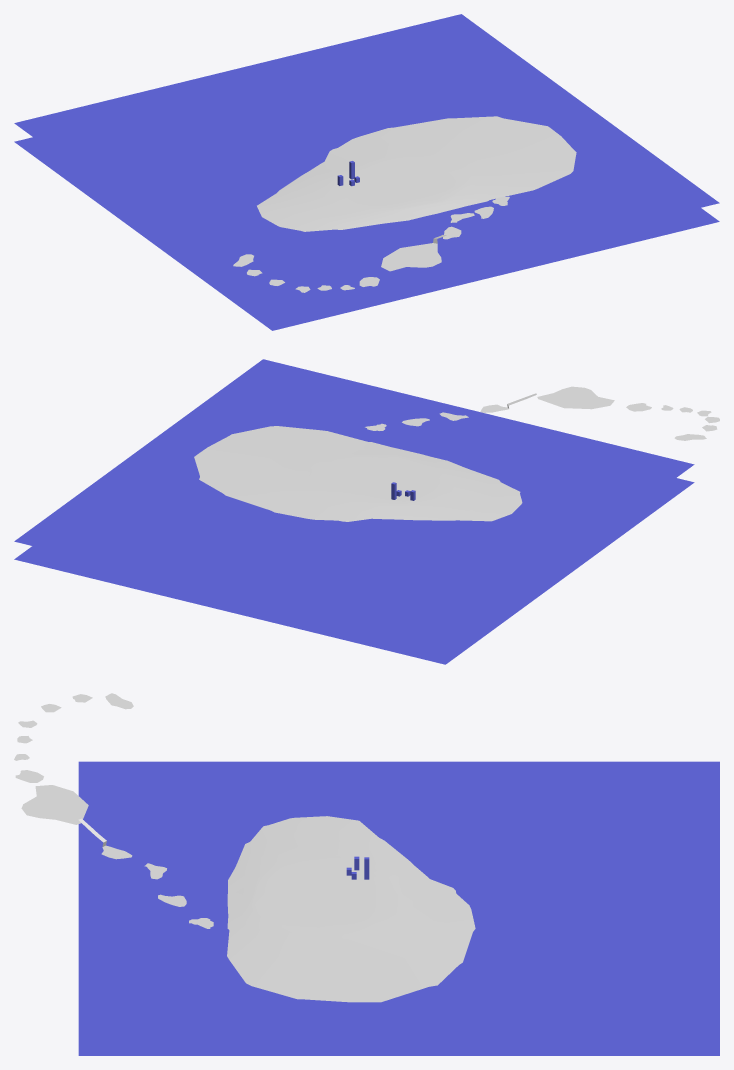
File: octree_lo.glb
The picture shows the model from 3 angles, top to bottom: view 1: azimuth 30°, elevation 25°; view 2: azimuth 150°, elevation 25°; view 3: azimuth 270°, elevation 25°; orthographic projection. The views are drawn at different scales.
Parts seen in each view (by area): view 1: Ocean, Beach, BufferPlane, Plane.004; view 2: Ocean, Beach, BufferPlane, Plane.004; view 3: Ocean, Beach, BufferPlane, Plane.004.
Boxes of the visible parts, bbox=[...] form: Ocean: bbox=[14, 14, 719, 312]; Beach: bbox=[257, 116, 576, 231]; BufferPlane: bbox=[14, 137, 719, 330]; Plane.004: bbox=[381, 226, 461, 271]; Ocean: bbox=[14, 359, 694, 646]; Beach: bbox=[194, 426, 522, 521]; BufferPlane: bbox=[14, 478, 694, 664]; Plane.004: bbox=[480, 386, 614, 412]; Ocean: bbox=[78, 761, 719, 1032]; Beach: bbox=[227, 816, 475, 1002]; BufferPlane: bbox=[78, 1032, 719, 1055]; Plane.004: bbox=[21, 785, 132, 859].
Bounding box in the file's own units: 121 × 14.95 × 126.
